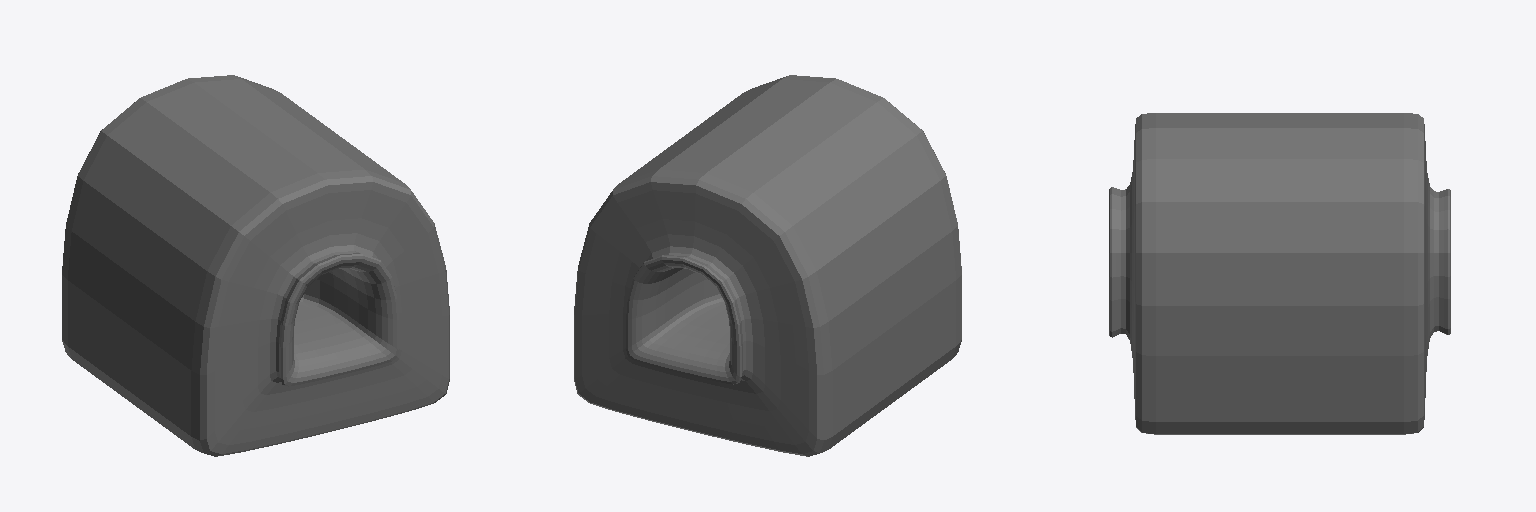
File: box_body_01.obj
3 views of the same model, side by side, from view 1: azimuth 30°, elevation 25°; view 2: azimuth 150°, elevation 25°; view 3: azimuth 270°, elevation 25° (orthographic).
Parts seen in each view (by area): view 1: pCube5; view 2: pCube5; view 3: pCube5.
Part boxes in pixels (left/top/right/bottom): pCube5: left=62, top=75, right=449, bottom=456; pCube5: left=574, top=75, right=961, bottom=456; pCube5: left=1109, top=113, right=1450, bottom=434.
Size of the model in its own units: 1 by 0.9688 by 1.17.